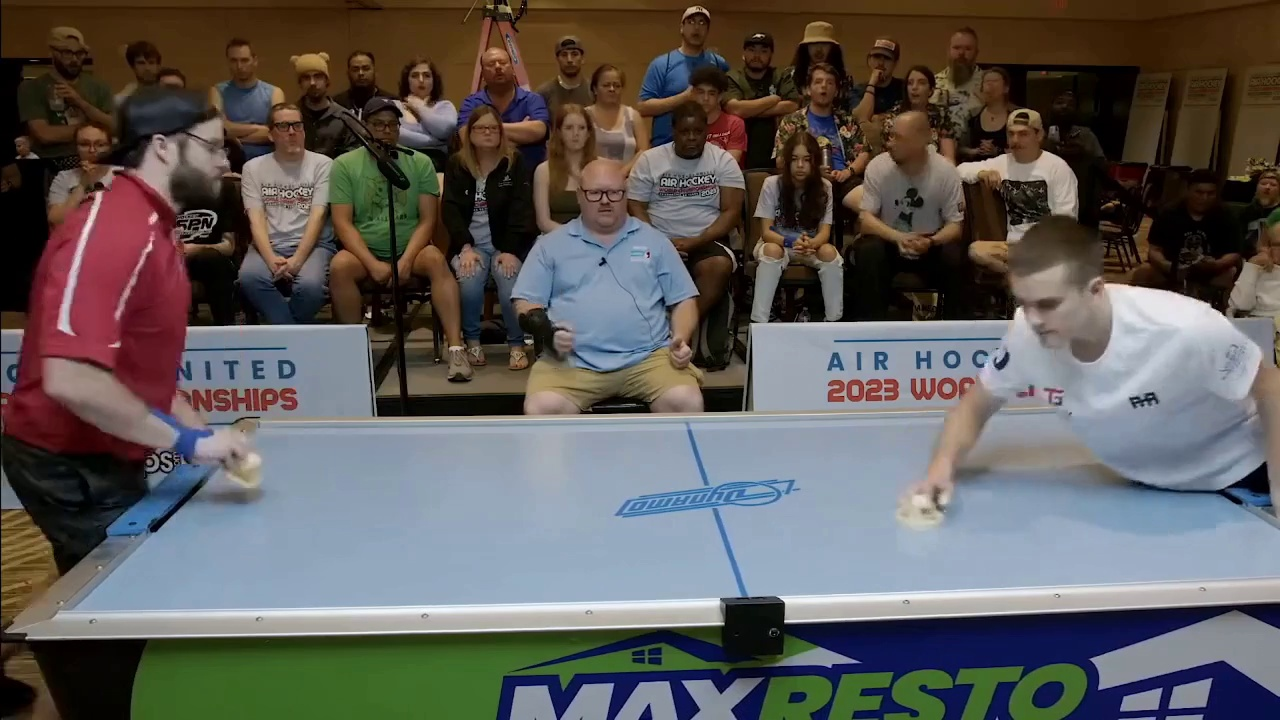player: (217, 445, 267, 485), (893, 492, 943, 529)
table: (60, 417, 1278, 589)
